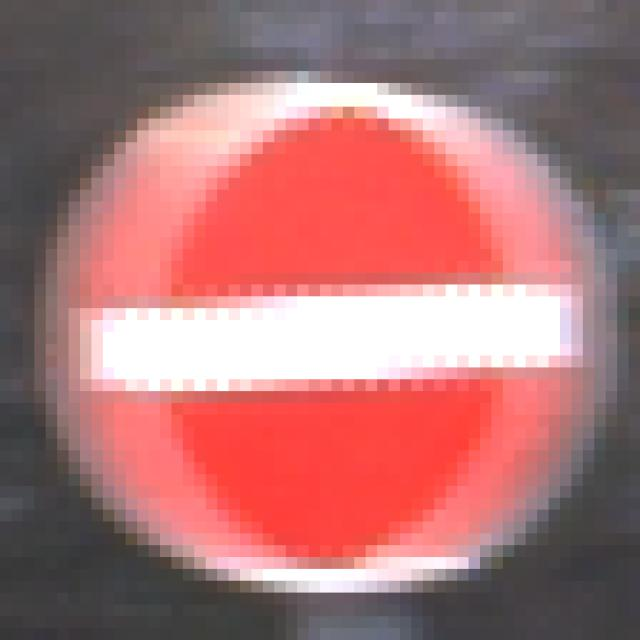No Entry: (58, 60, 584, 582)
